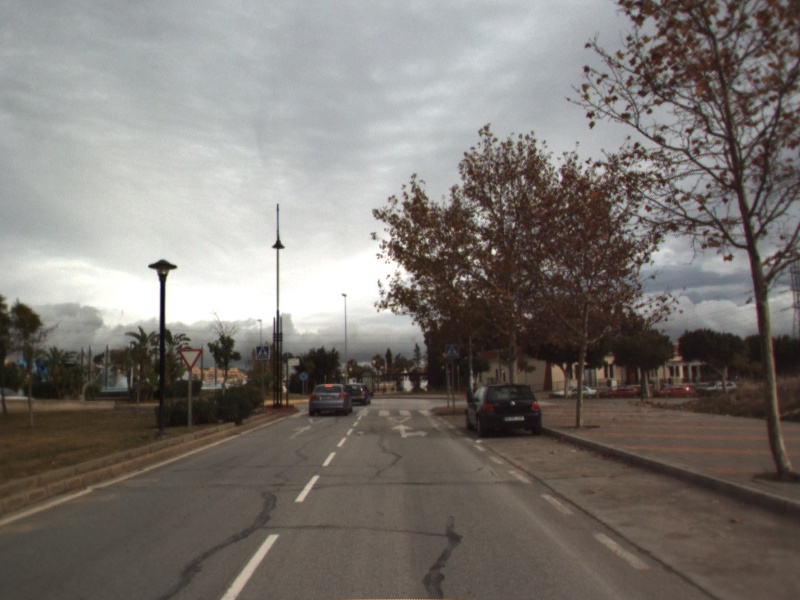STRAIGHT: (286, 424, 314, 441)
STRAIGHT_RIGHT: (389, 422, 430, 440)
